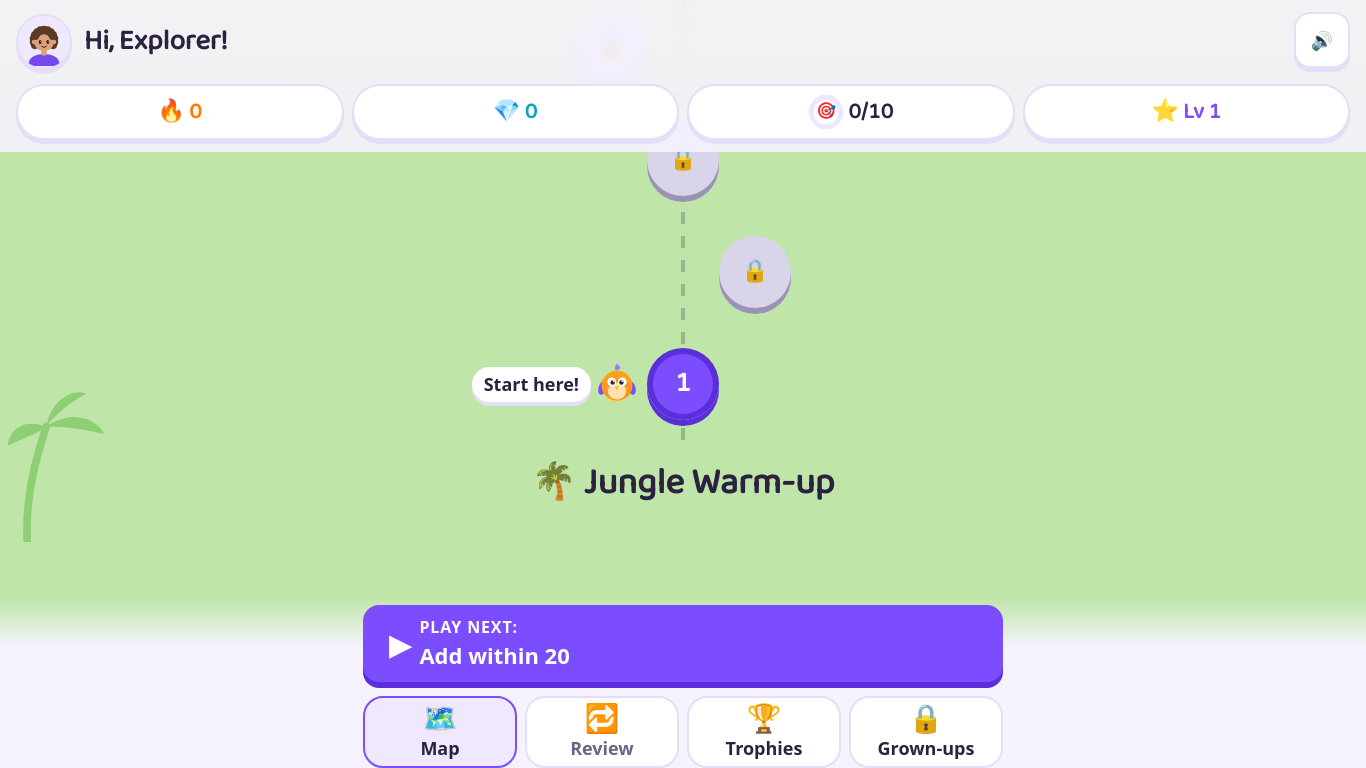
Test: mission sheet + tap-to-hear (AC6, AC7) › Grown-ups in the bar goes to the gate
(page scrolled)
Click the button "🔒 Grown-ups": coordinates (926, 732) [849,696,1003,767]
(page scrolled)
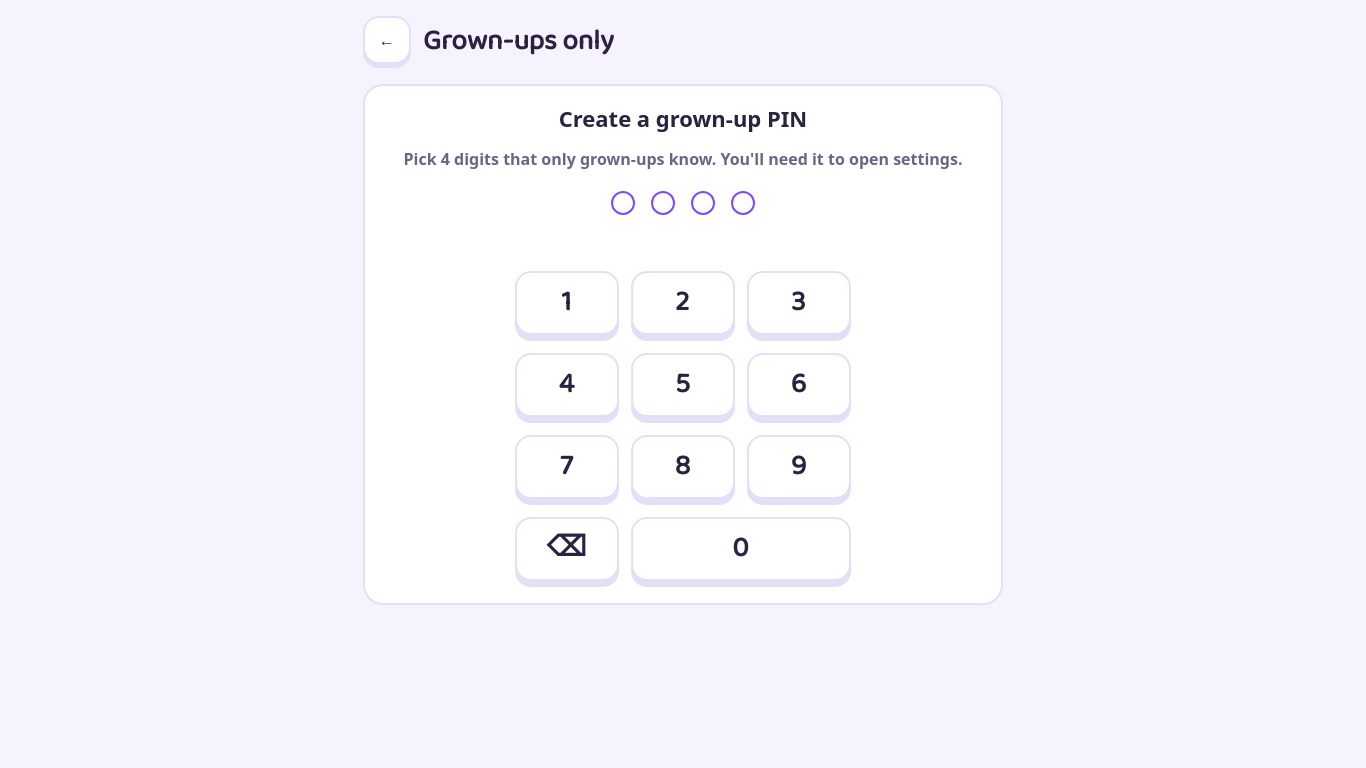
Check: the heading "Grown-ups only" is shown, box [423,21,614,63]
